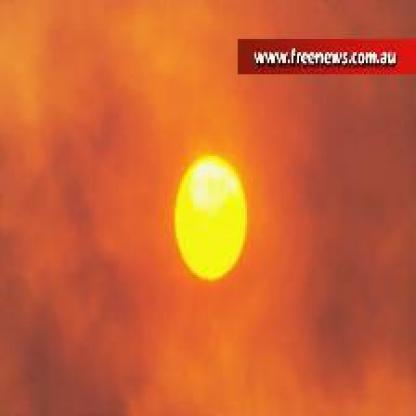other: (151, 136, 290, 291)
